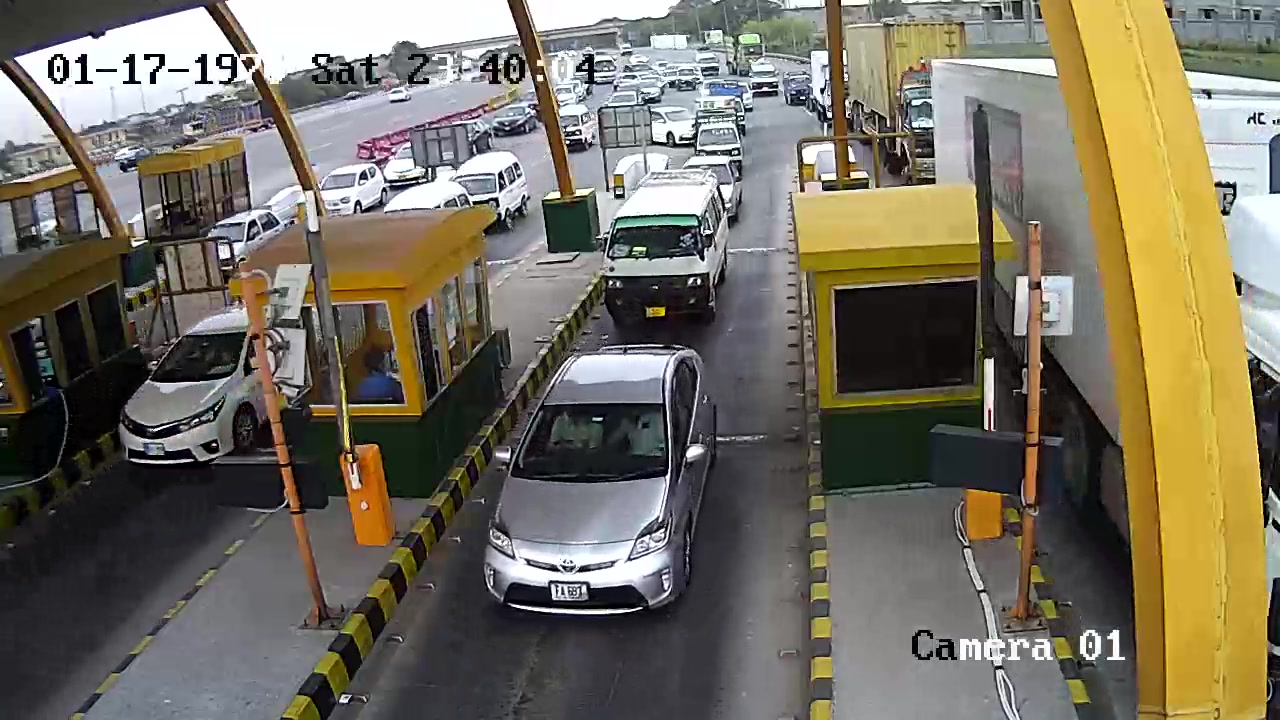F1: (471, 338, 736, 622)
